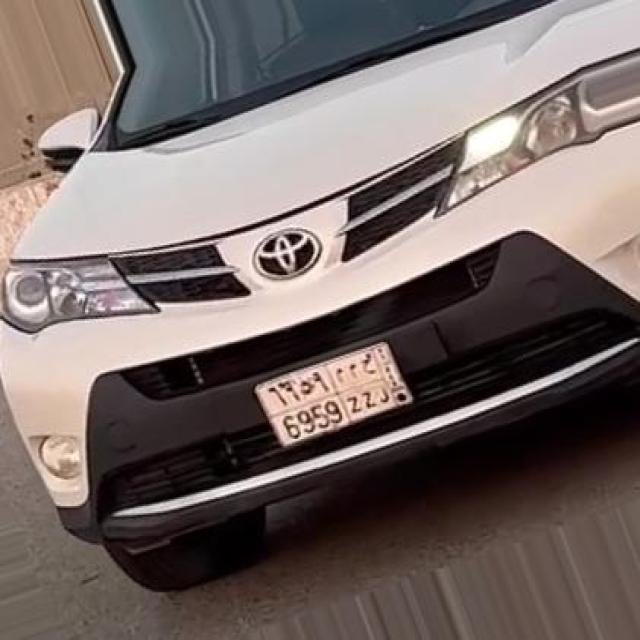Car-plate: (222, 322, 431, 466)
